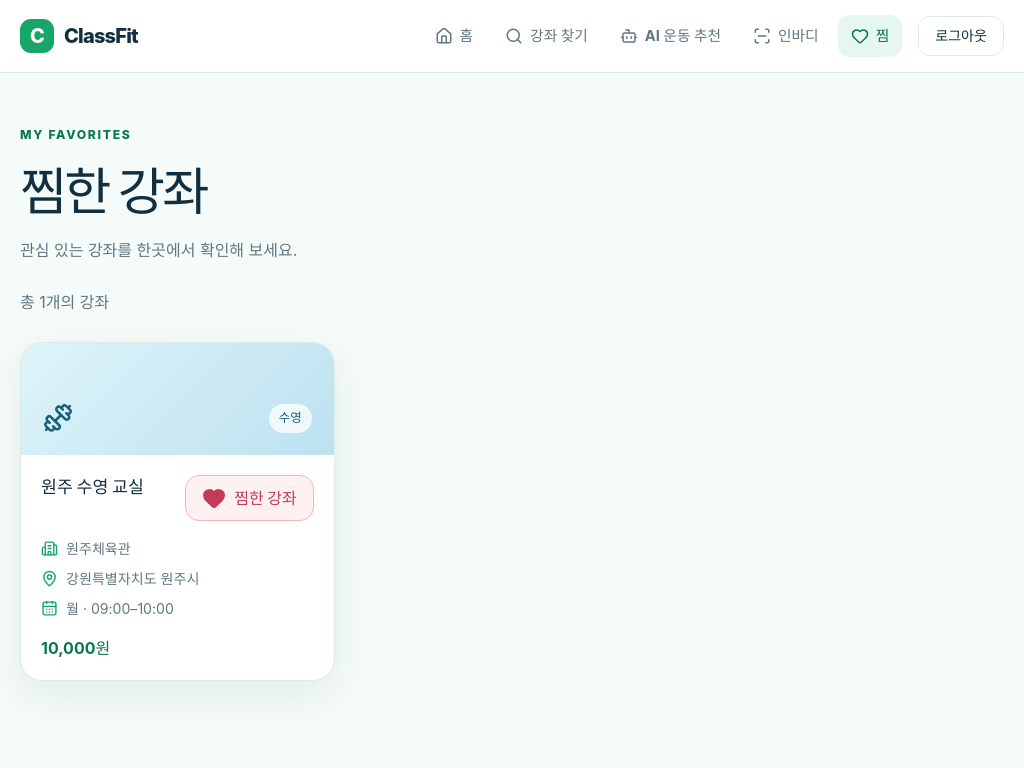
Test: App › shows_saved_courses_and_removes_an_unfavorited_course
Click the button with aria-label "찜 취소".
click(250, 498)  # box [185,475,314,521]
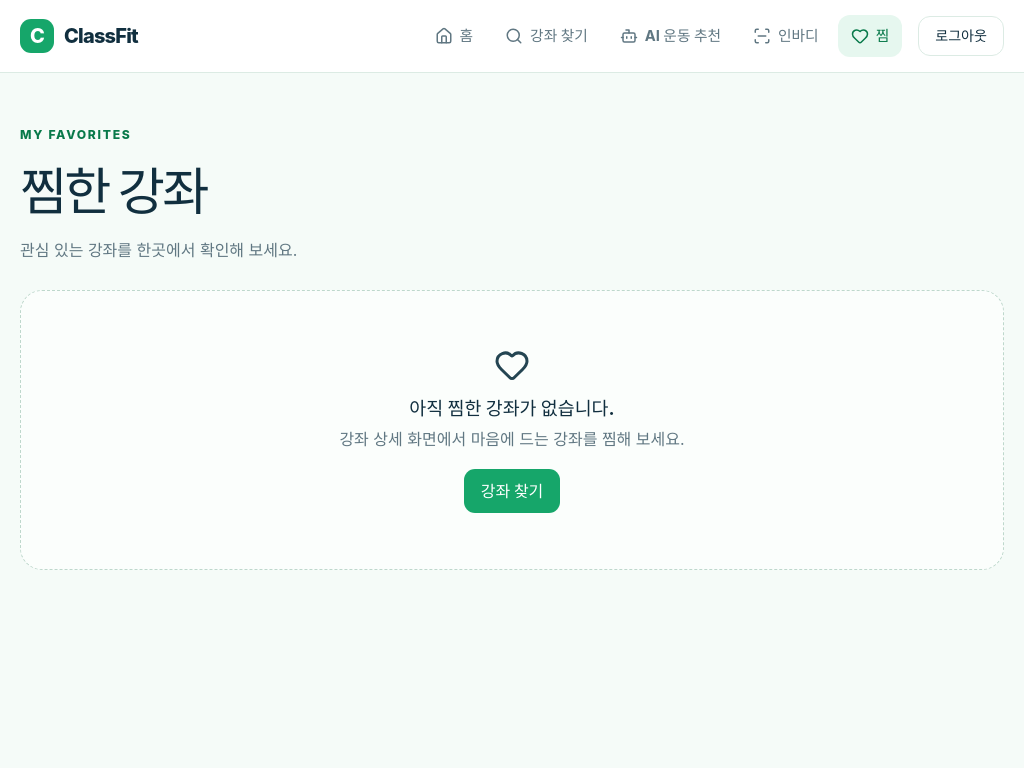
expect the link "원주 수영 교실" is gone: met
expect the heading "아직 찜한 강좌가 없습니다." is shown: met, box [409,395,615,422]
